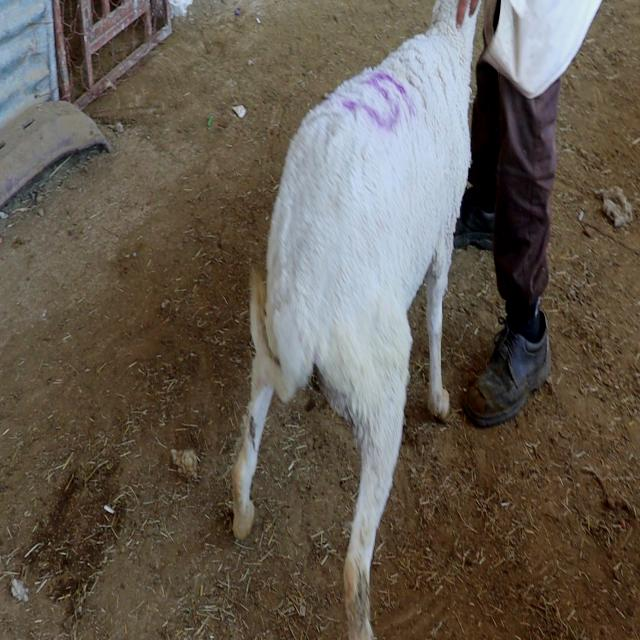Score_3: (232, 0, 479, 639)
